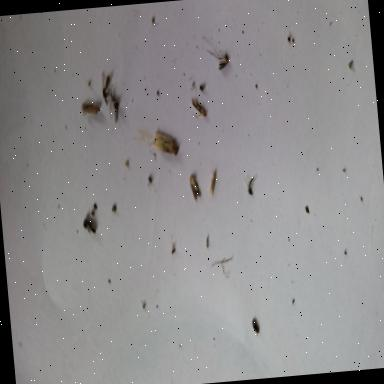pbw: (148, 129, 184, 158), (191, 98, 208, 120), (190, 176, 202, 202), (208, 169, 218, 197)
